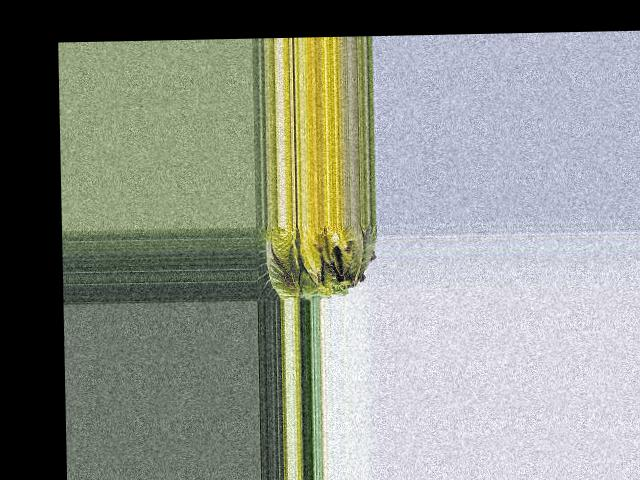lettuce: (255, 223, 374, 298)
